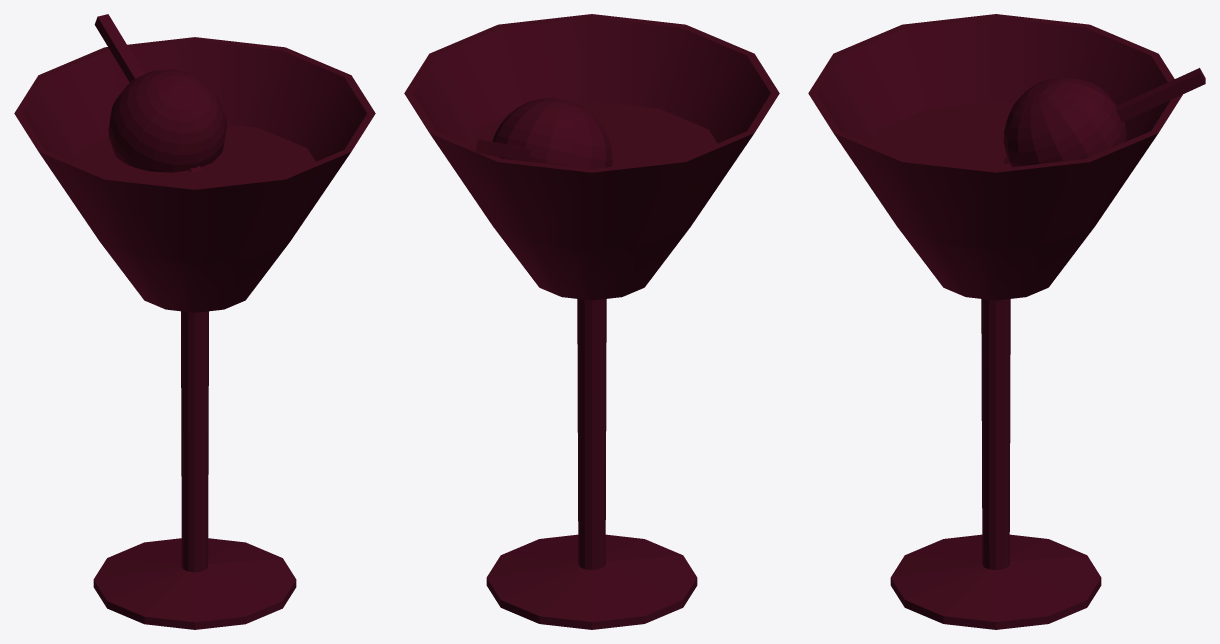
The model's file is Recipe_DryEyeMartini_v01.fbx.
3 views of the same model, side by side, from view 1: azimuth 30°, elevation 25°; view 2: azimuth 150°, elevation 25°; view 3: azimuth 270°, elevation 25° (orthographic). The views are drawn at different scales.
Visible parts, largest first — view 1: Rest_Bar_Set04_MartiniGlass_01, Eyeball, Rest_Bar_Set04_MartiniGlass_Liquid, ToothPick; view 2: Rest_Bar_Set04_MartiniGlass_01, Eyeball, Rest_Bar_Set04_MartiniGlass_Liquid, ToothPick; view 3: Rest_Bar_Set04_MartiniGlass_01, Eyeball, Rest_Bar_Set04_MartiniGlass_Liquid, ToothPick.
Boxes of the visible parts, x1,y1,x2,y2 form: Rest_Bar_Set04_MartiniGlass_01: (14,37,375,629); Eyeball: (108,69,226,172); Rest_Bar_Set04_MartiniGlass_Liquid: (74,124,315,186); ToothPick: (94,14,201,172); Rest_Bar_Set04_MartiniGlass_01: (404,14,779,629); Eyeball: (492,97,612,168); Rest_Bar_Set04_MartiniGlass_Liquid: (466,101,717,166); ToothPick: (475,139,531,161); Rest_Bar_Set04_MartiniGlass_01: (808,14,1182,629); Eyeball: (1003,77,1126,166); Rest_Bar_Set04_MartiniGlass_Liquid: (870,101,1014,168); ToothPick: (1004,68,1205,163).
Size of the model in its own units: 3.73 by 5.67 by 3.95.
